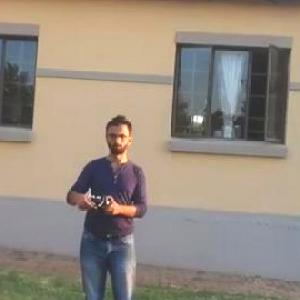follow: (56, 105, 154, 299)
